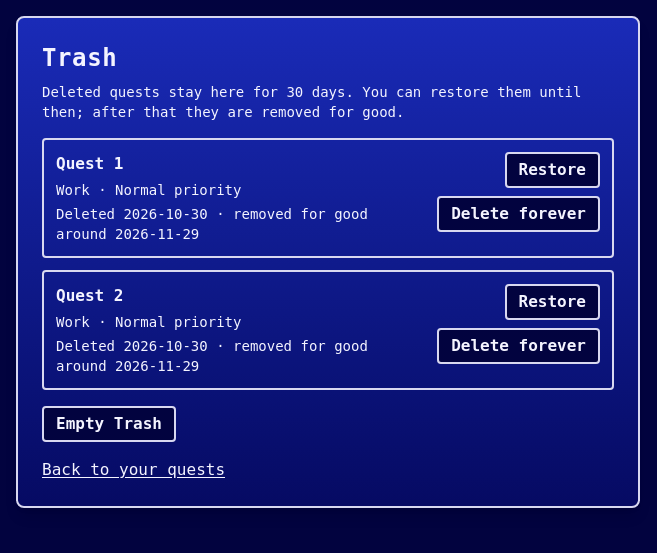
Test: Trash page › offers Empty Trash, which asks first and says how many it would delete
Expected: the button "Yes, empty the Trash" is not shown
Step 1. Click the button "Empty Trash" → (109, 424), box [42, 406, 176, 442]
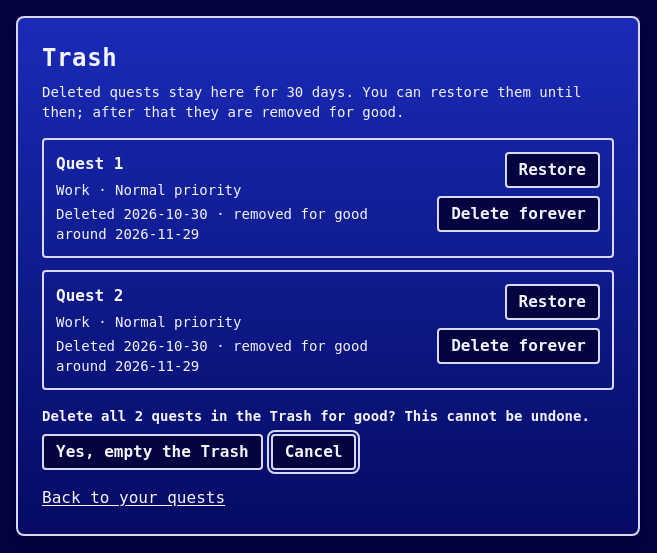
Expected: the text "Delete all 2 quests in the Trash for good? This cannot be undone." is shown, [42, 406, 614, 426]
